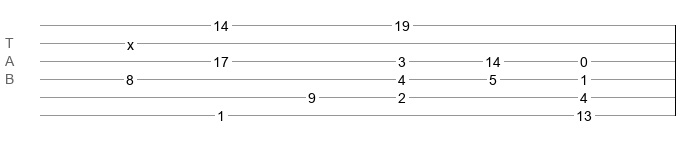0: (580, 54, 588, 64)
1: (217, 108, 225, 118), (580, 72, 588, 82)
13: (576, 108, 592, 118)
14: (213, 18, 229, 28), (485, 54, 501, 64)
17: (213, 54, 229, 64)
19: (394, 18, 410, 28)
2: (398, 90, 406, 100)
3: (398, 54, 406, 64)
4: (398, 72, 406, 82), (580, 90, 588, 100)
5: (489, 72, 497, 82)
8: (126, 72, 134, 82)
9: (308, 90, 316, 100)
x: (127, 37, 134, 45)
